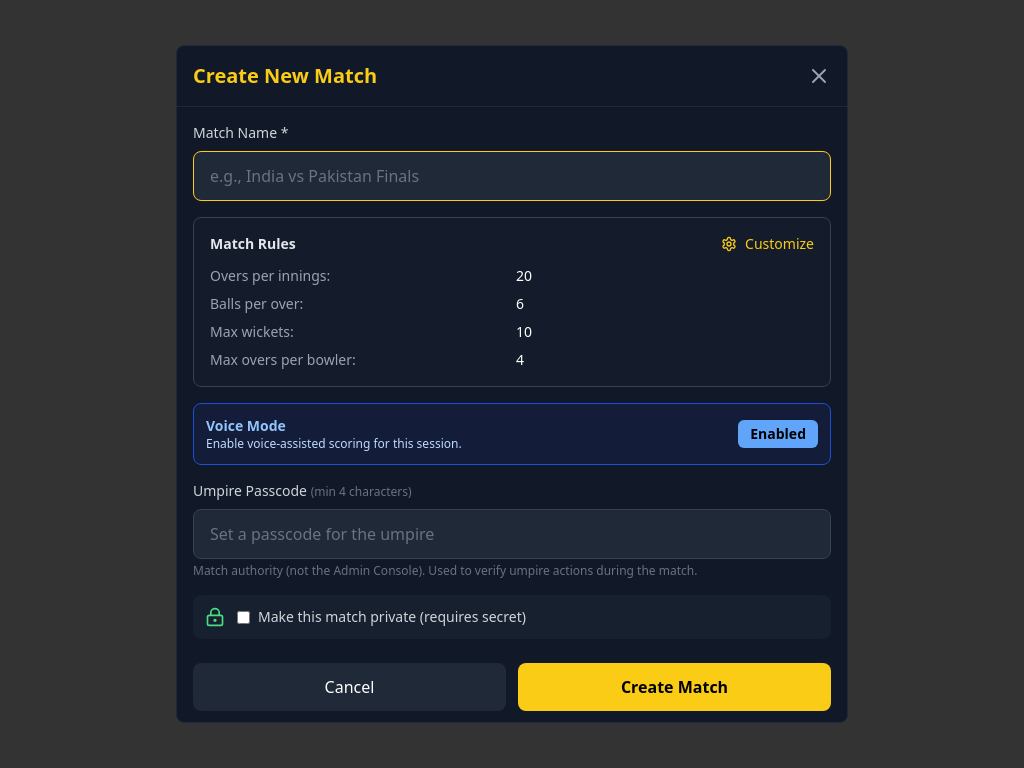
CreateMatchModal › toggles customize rules mode
Expected: the heading "Create New Match" is shown, [193, 62, 377, 90]
Click the button with aria-label "Toggle customize rules". click: (768, 244)
box: [721, 234, 814, 254]
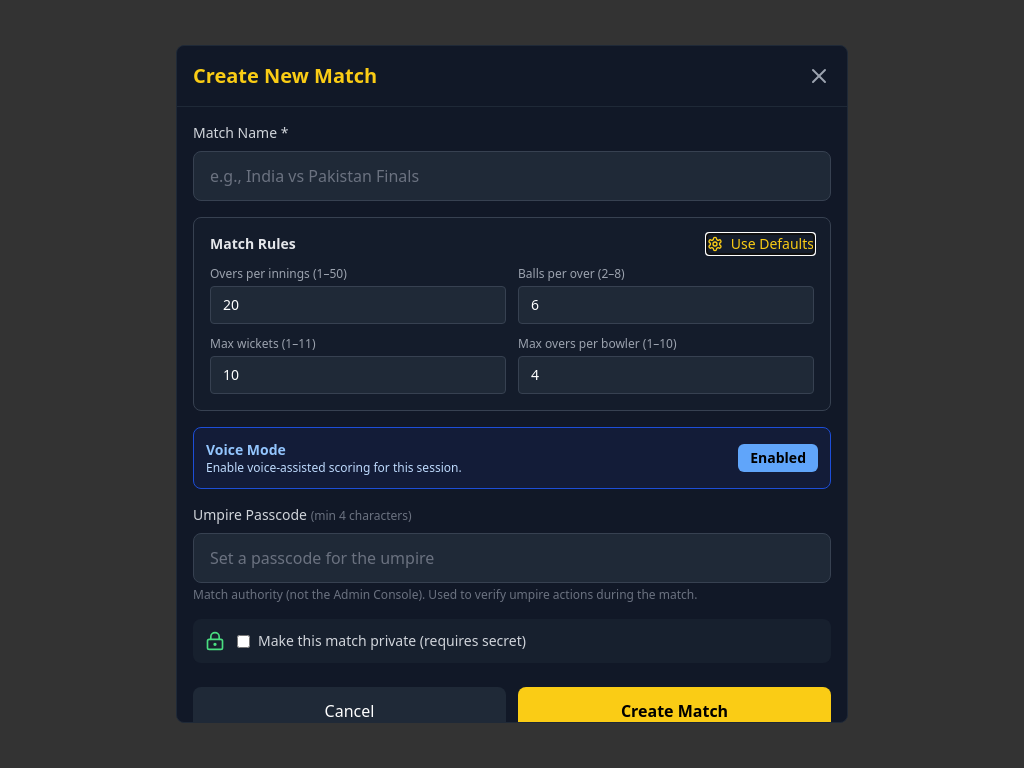
Now the button "Use Defaults" is shown, box [707, 234, 814, 254]
